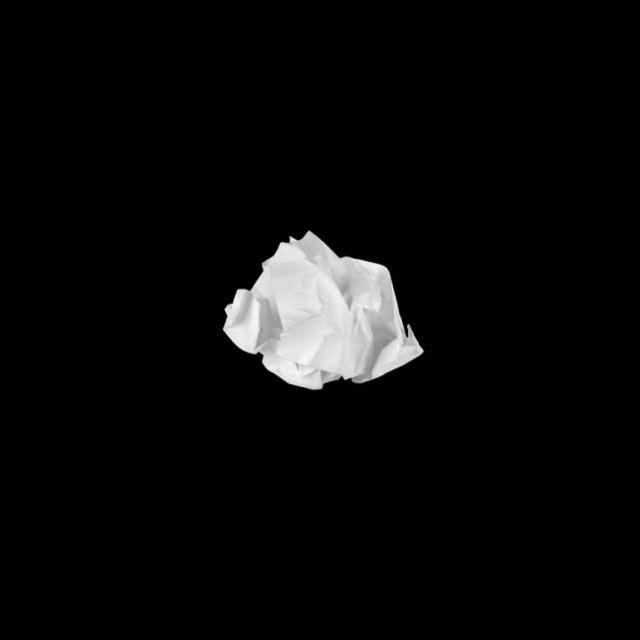paper: (223, 231, 422, 389)
